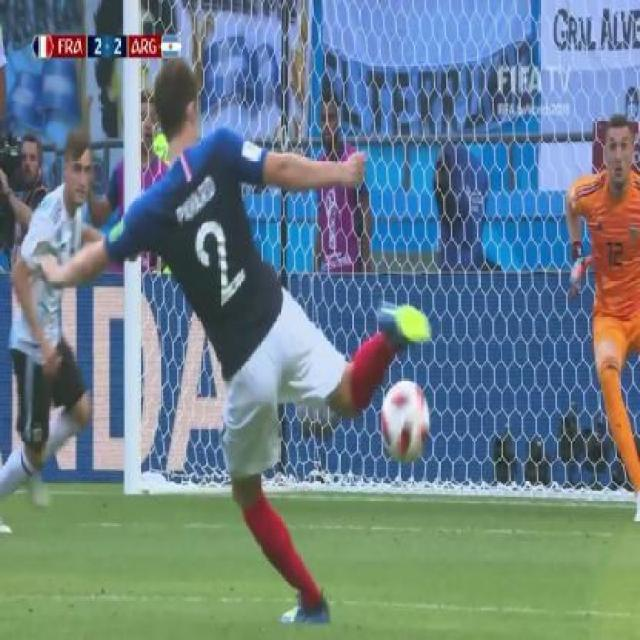ball: (372, 372, 437, 468)
player: (97, 45, 386, 613), (0, 116, 114, 525), (558, 96, 640, 518)
